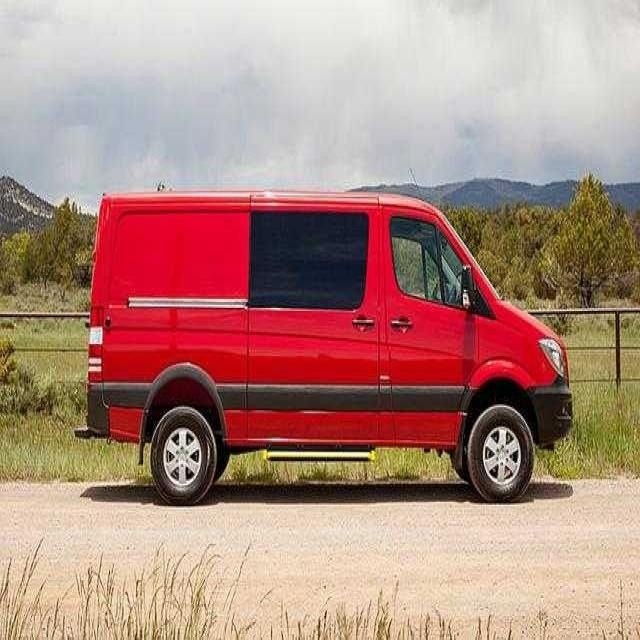Van: (92, 191, 575, 504)
